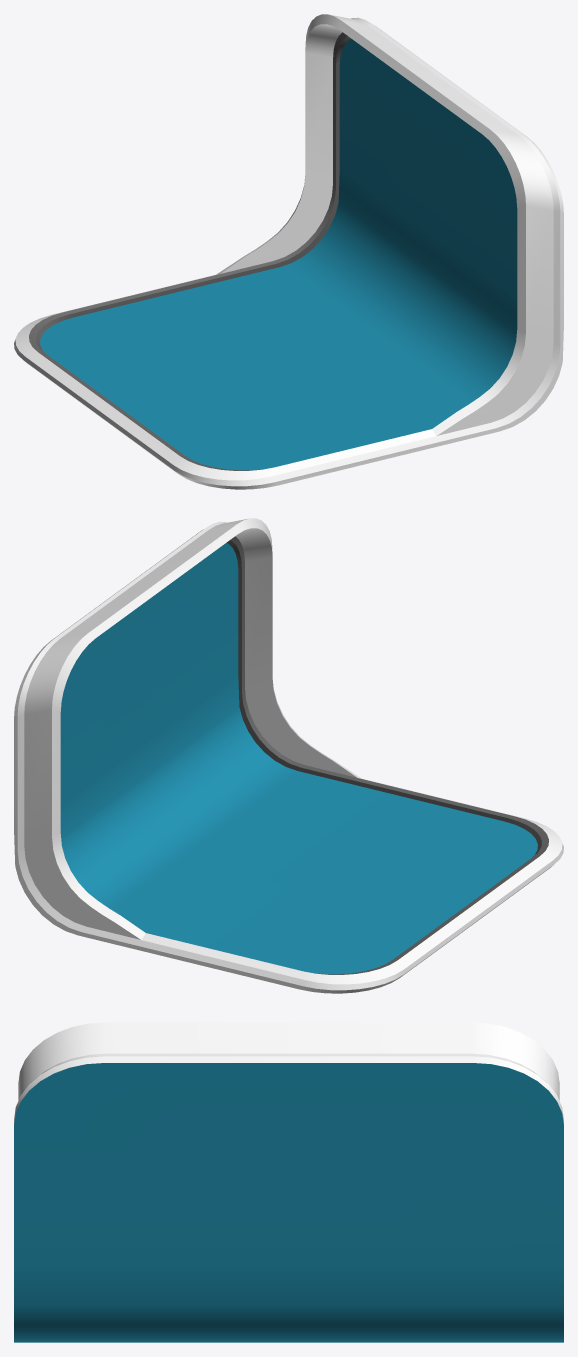
The model's file is Showcase_Panel001.fbx.
The picture shows the model from 3 angles, top to bottom: view 1: azimuth 30°, elevation 25°; view 2: azimuth 150°, elevation 25°; view 3: azimuth 270°, elevation 25°; orthographic projection. The views are drawn at different scales.
Visible parts, largest first — view 1: Panel; view 2: Panel; view 3: Panel.
Boxes of the visible parts, x1=… form: Panel: x1=14, y1=14, x2=563, y2=489; Panel: x1=14, y1=518, x2=563, y2=993; Panel: x1=14, y1=1022, x2=563, y2=1342.
Size of the model in its own units: 979 by 709 by 1075.
